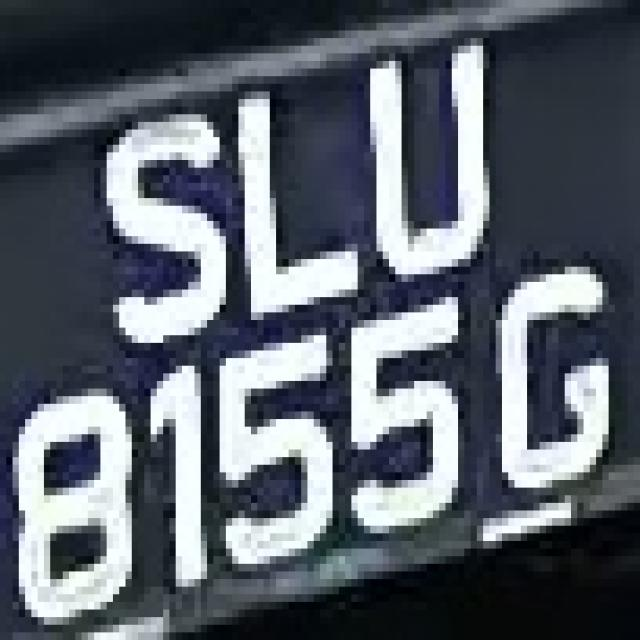1: (157, 366, 219, 617)
5: (326, 297, 458, 564), (214, 336, 326, 572)
8: (18, 373, 150, 625)
G: (483, 266, 628, 526)
L: (232, 92, 364, 336)
S: (94, 99, 226, 381)
U: (352, 46, 508, 297)
